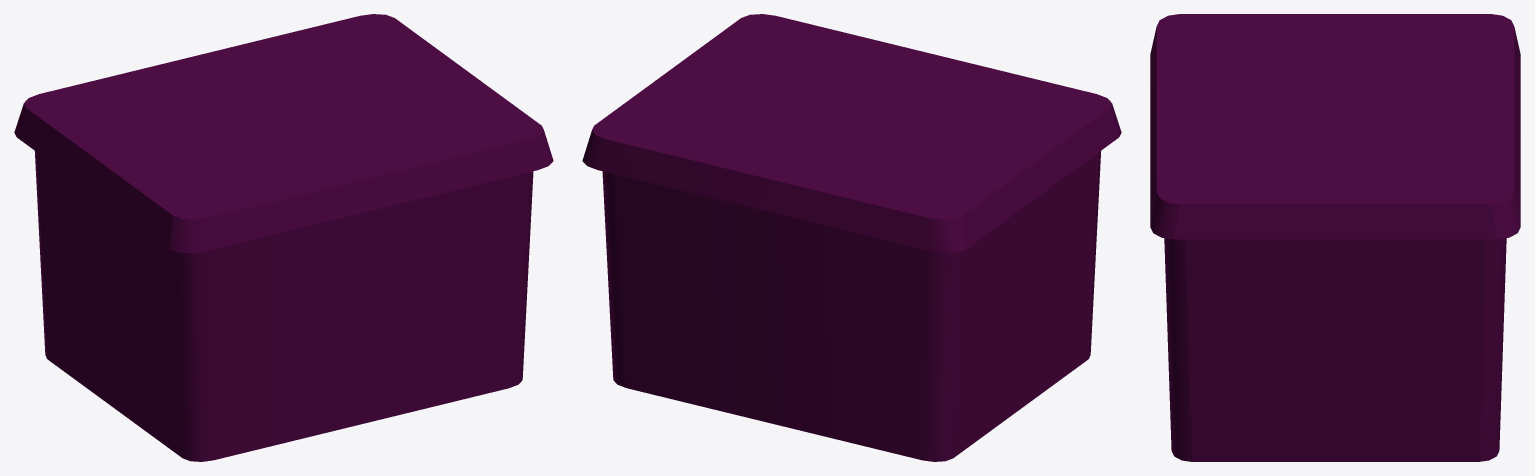
Rendered from Workshop_Cont2.fbx.
3 renders of one model, left to right at view 1: azimuth 30°, elevation 25°; view 2: azimuth 150°, elevation 25°; view 3: azimuth 270°, elevation 25°, orthographic. The views are drawn at different scales.
Parts seen in each view (by area): view 1: Workshop_Cont2; view 2: Workshop_Cont2; view 3: Workshop_Cont2.
Boxes of the visible parts, x1,y1,x2,y2 form: Workshop_Cont2: (14, 14, 553, 461); Workshop_Cont2: (582, 14, 1121, 461); Workshop_Cont2: (1150, 14, 1520, 461).
Size of the model in its own units: 17.05 by 10.71 by 13.54.
